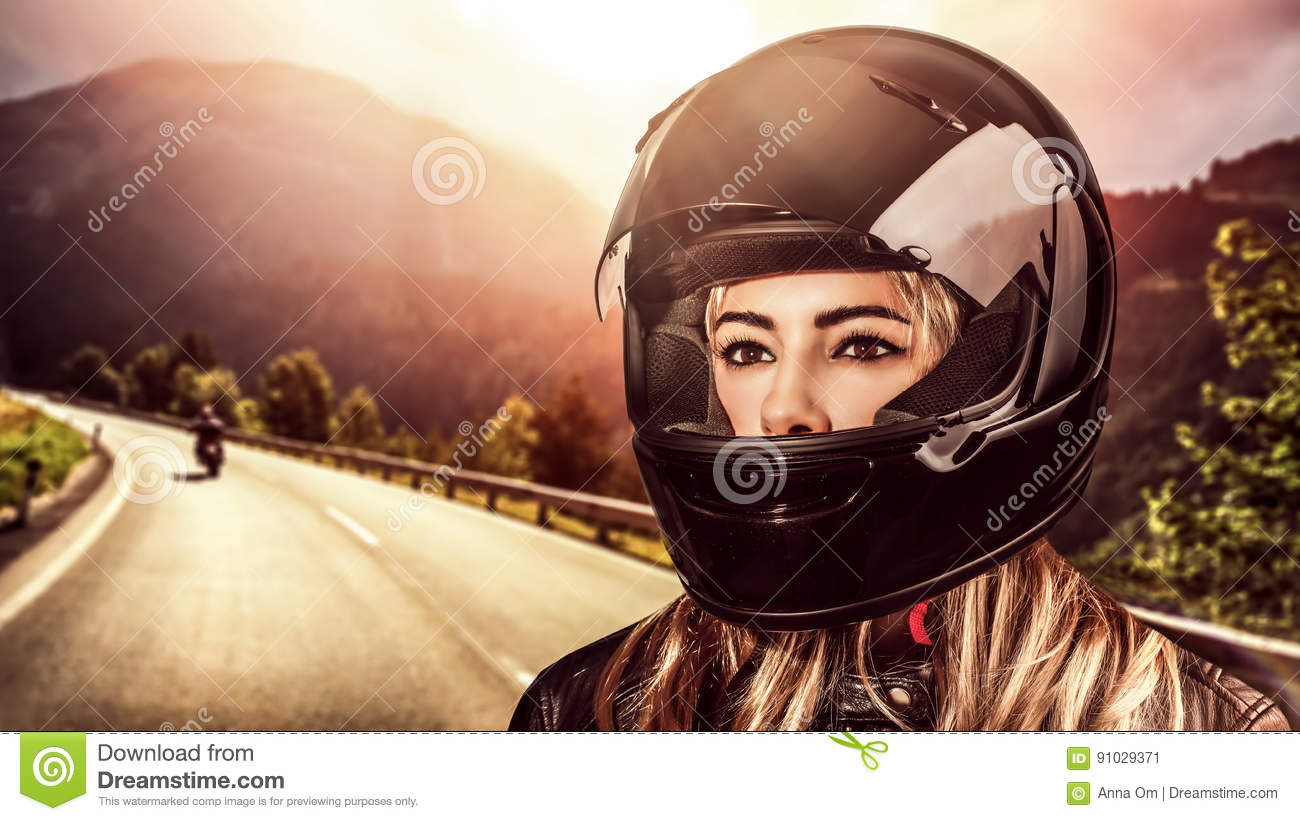helmet: (611, 23, 1129, 643)
